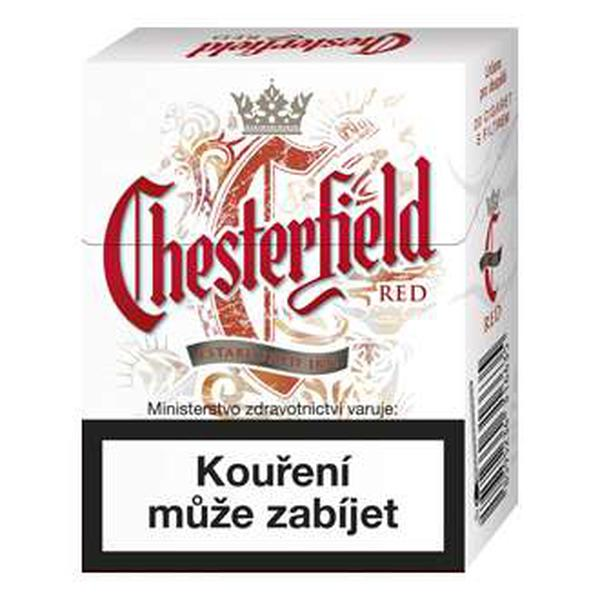chesterfield_red: (83, 64, 467, 577)
